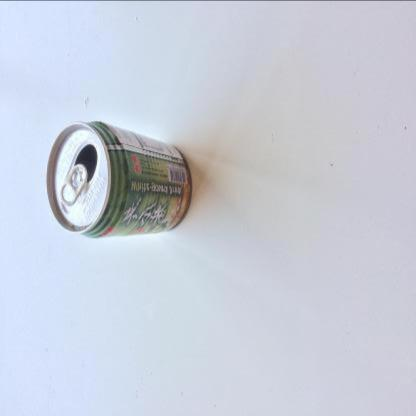Can: (46, 121, 192, 239)
Pop tab: (60, 164, 88, 206)
